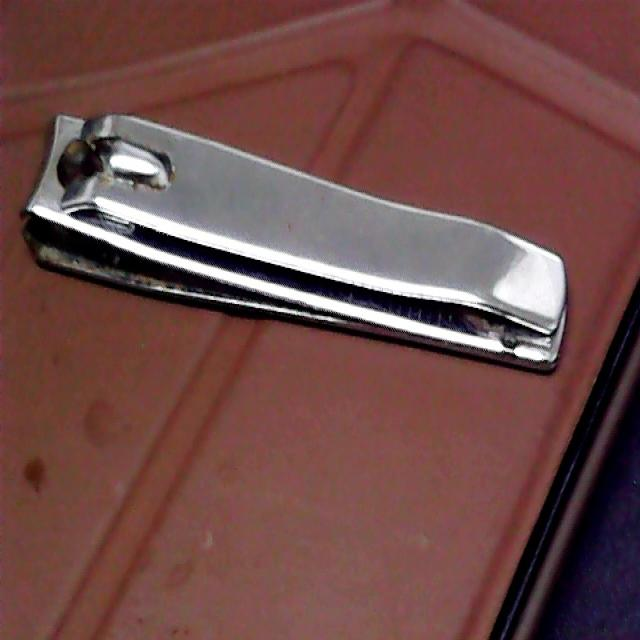Nail_clipper: (24, 113, 567, 369), (24, 113, 566, 369)
